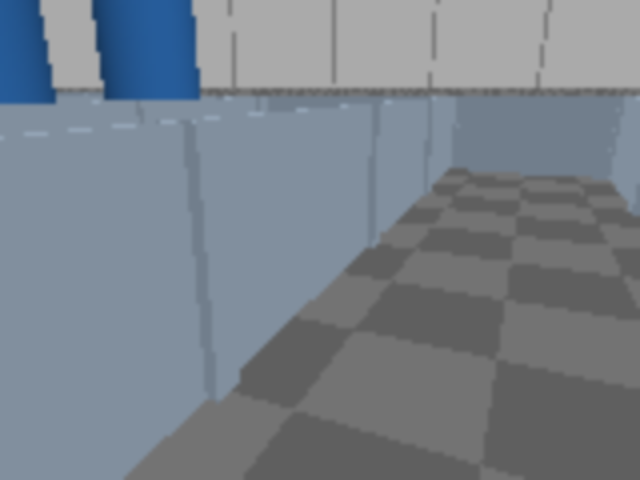person: (0, 0, 62, 242)
